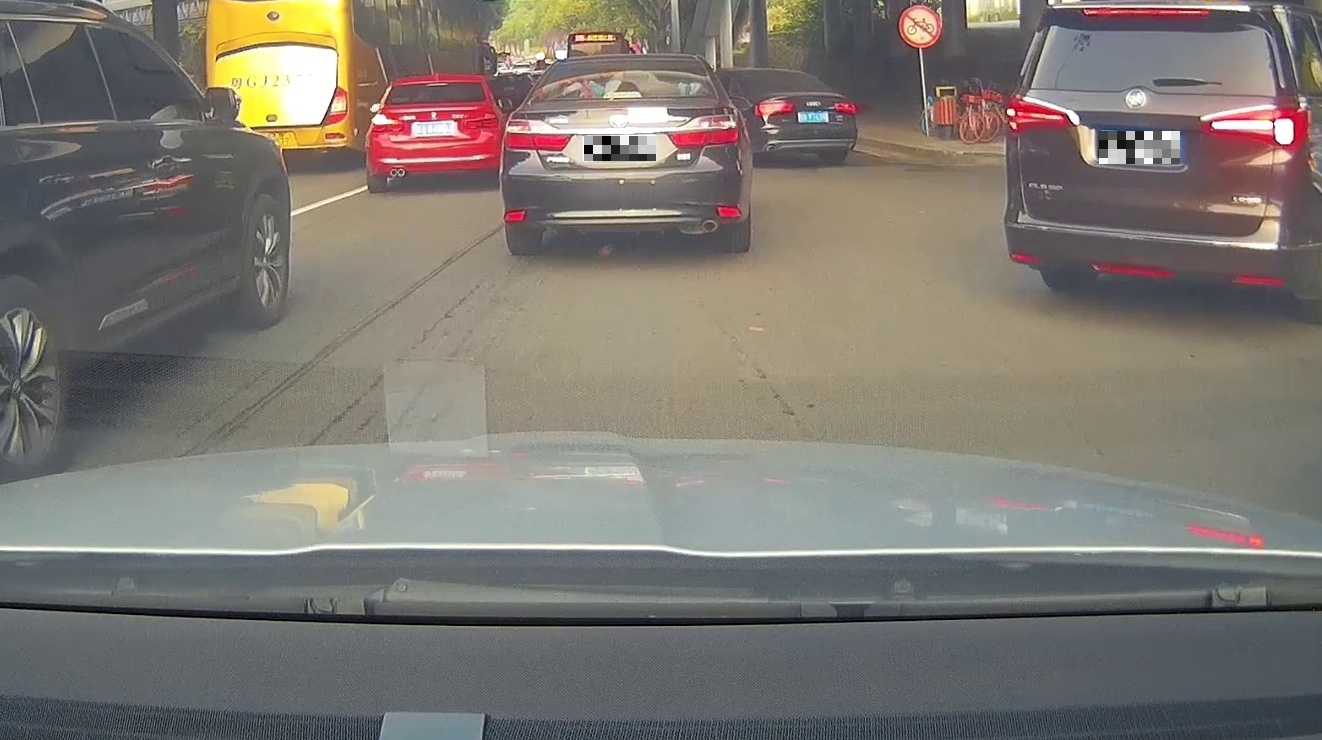L_light: (1005, 93, 1080, 132), (504, 119, 572, 151)
R_light: (1200, 104, 1307, 148), (669, 114, 739, 148)
T_light: (1082, 7, 1210, 16), (610, 61, 641, 67)
day-no: (500, 54, 751, 254)
day-right: (1003, 1, 1310, 323)
plate_1: (584, 136, 656, 161)
plate_2: (1099, 131, 1180, 164)
